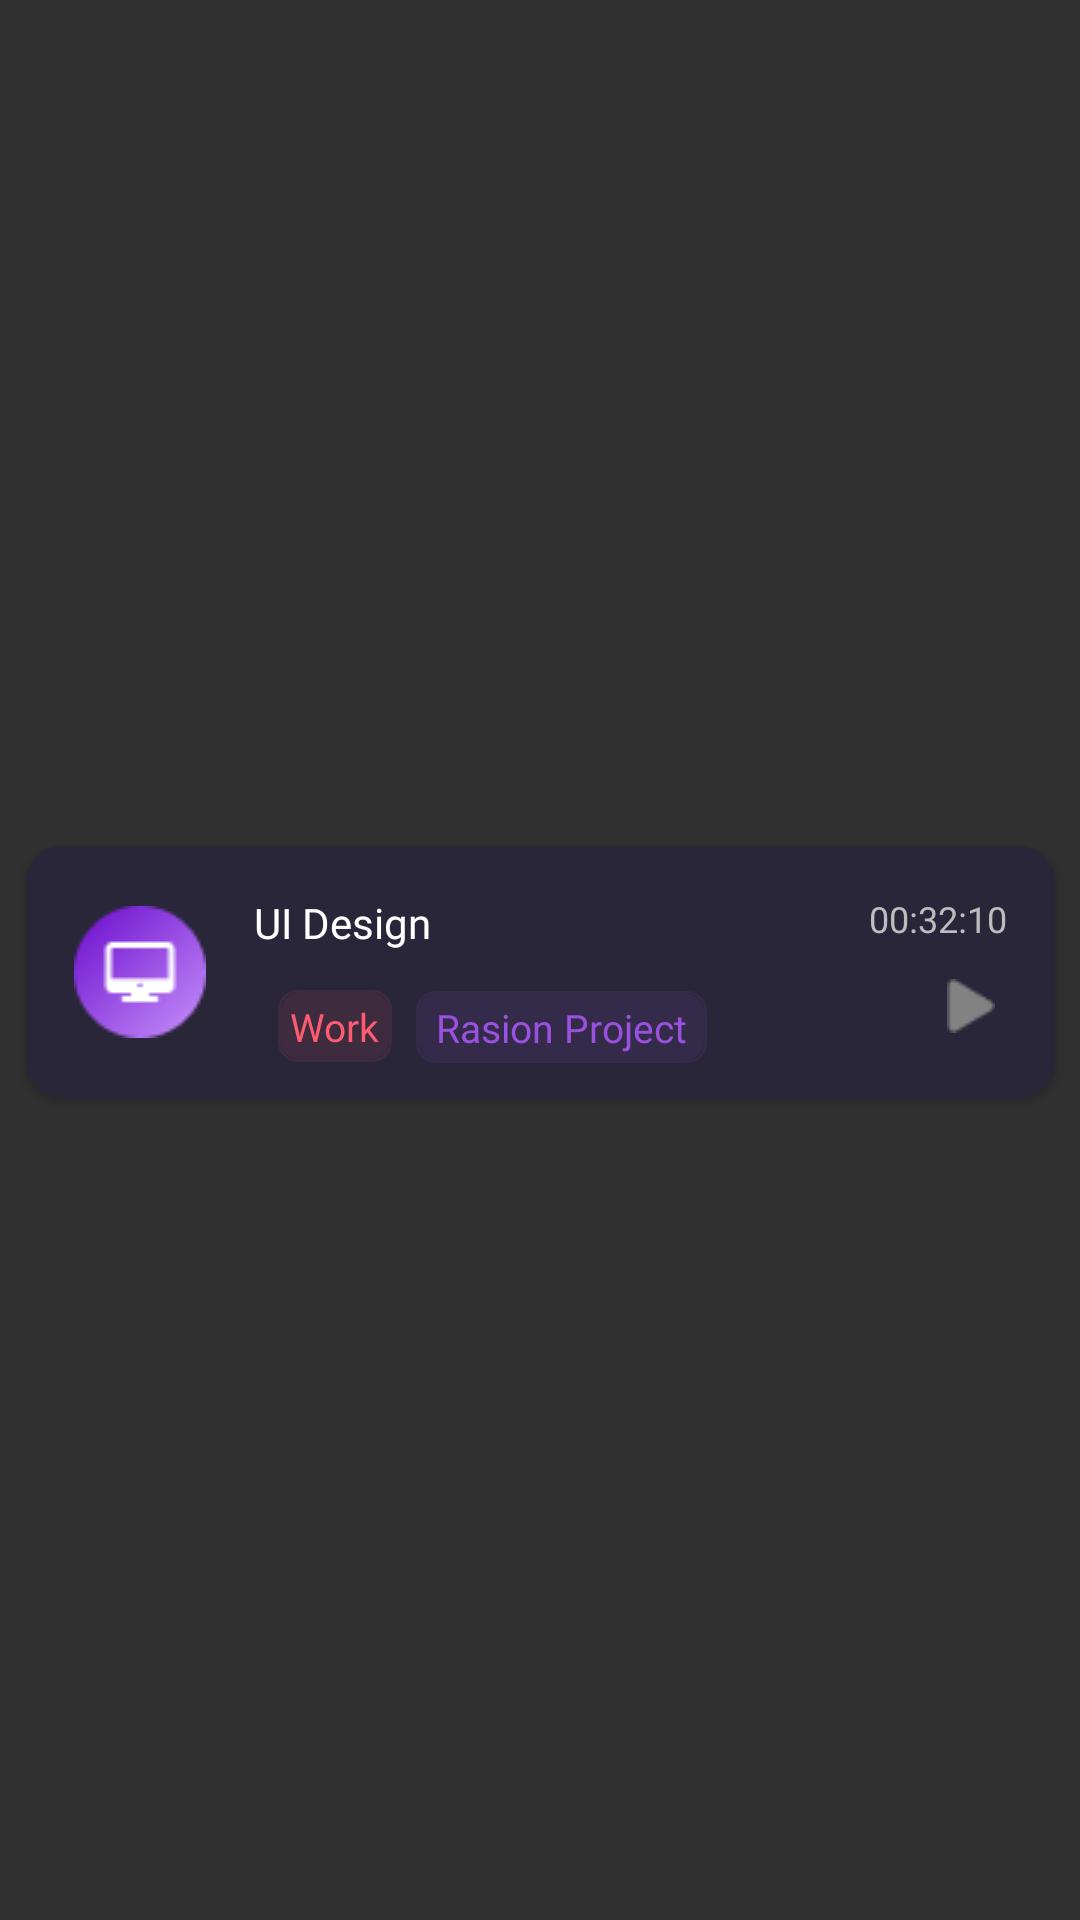

Named icons in this screenshot (1080px x 1920px) and their bounding boxes, (x1, y1, x2, y2):
play task: (947, 979, 995, 1033)
